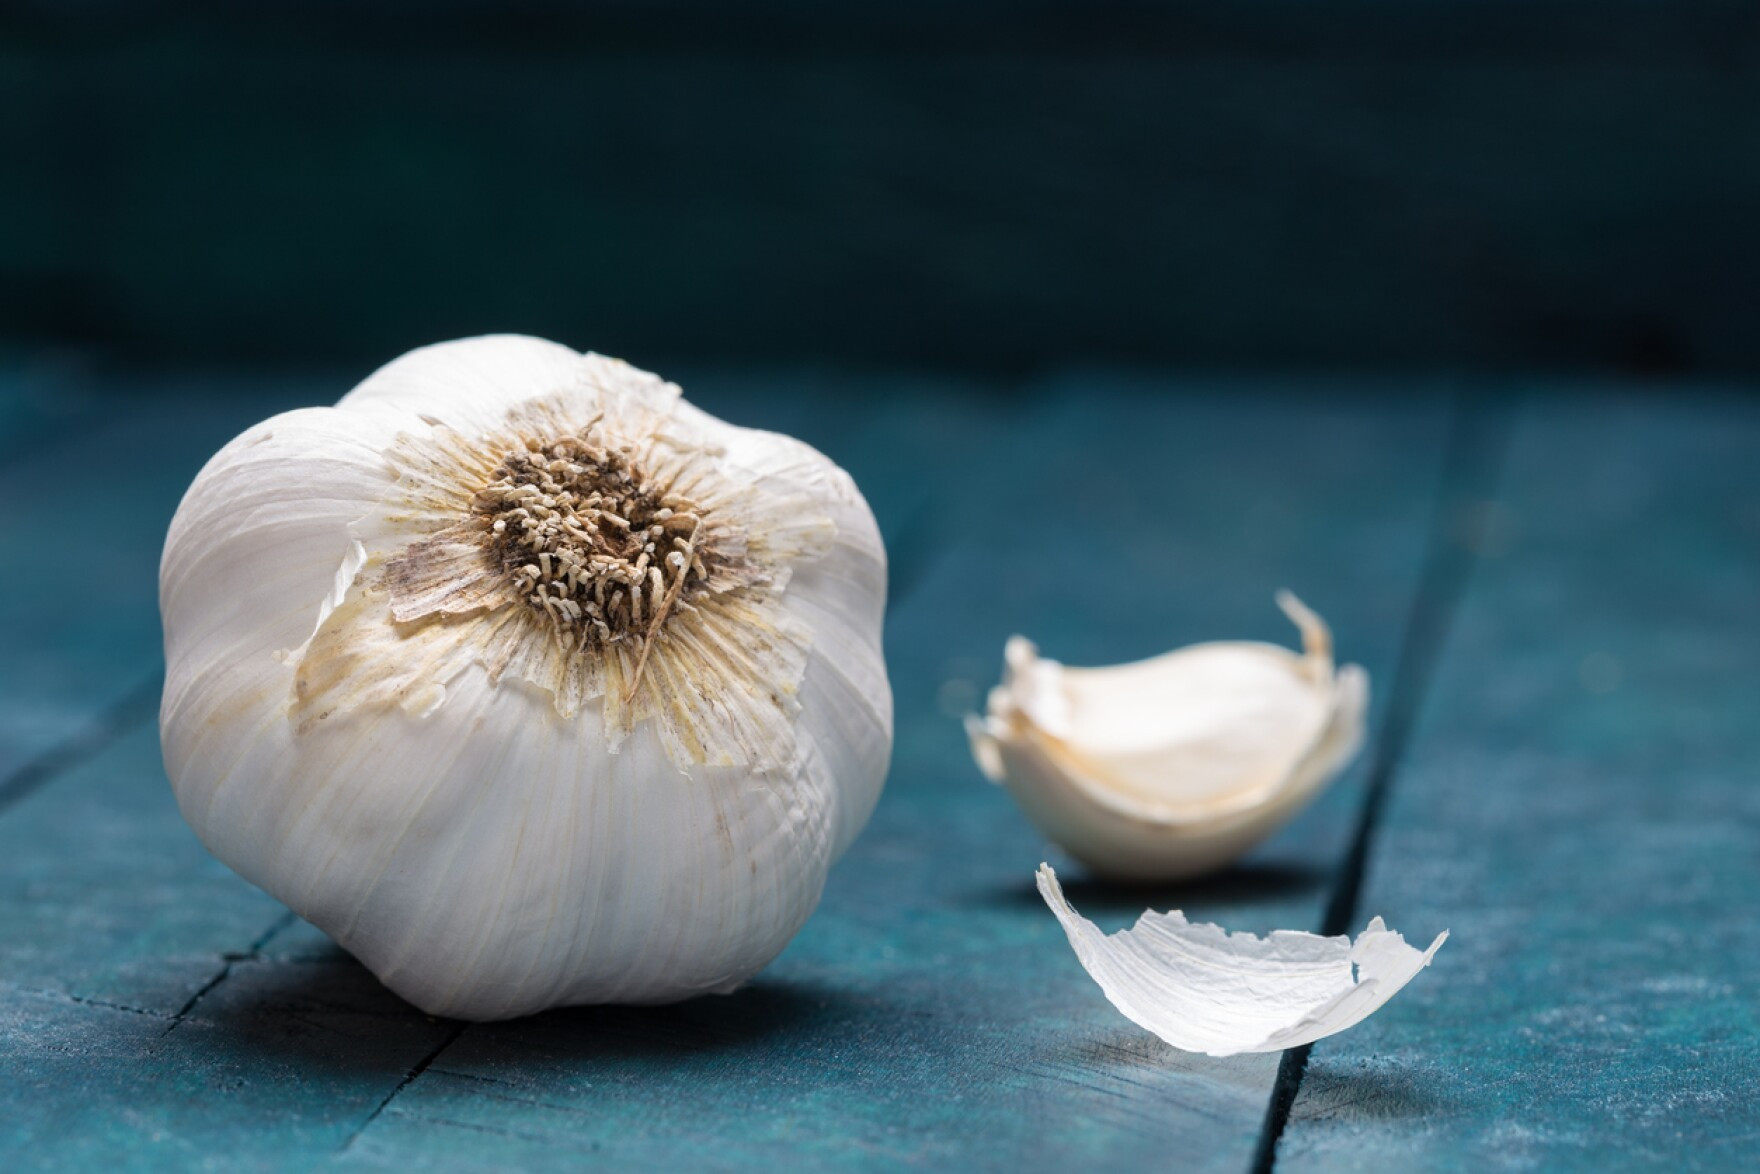garlic: (152, 328, 904, 1022)
